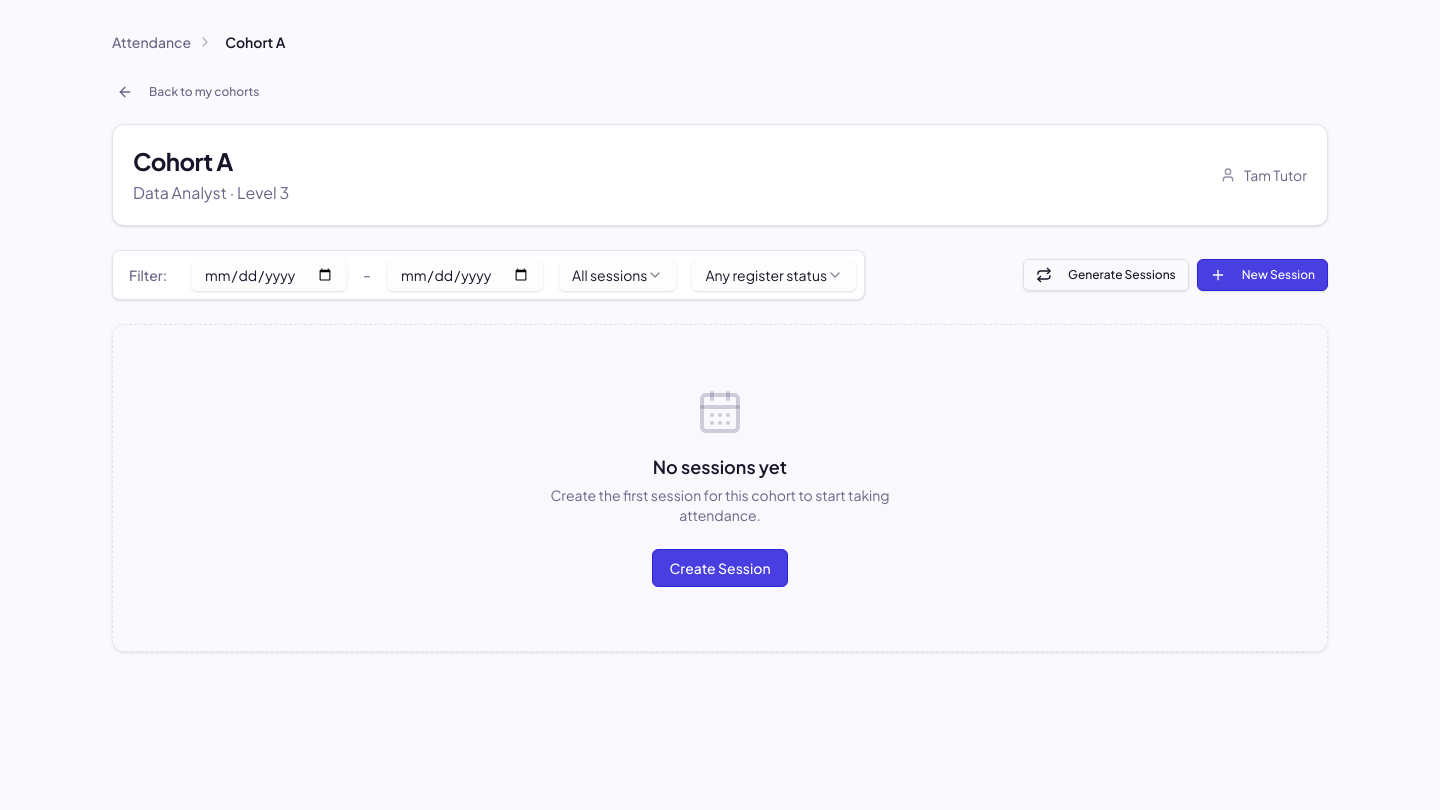
Test: CohortSessionsPage › does not let a tutor override a conflict -- no reason field or override button
The width and height of the screenshot is (1440, 810).
Step 1. Click the button "New Session" → (1262, 275), box x1=1197 y1=259 x2=1328 y2=291
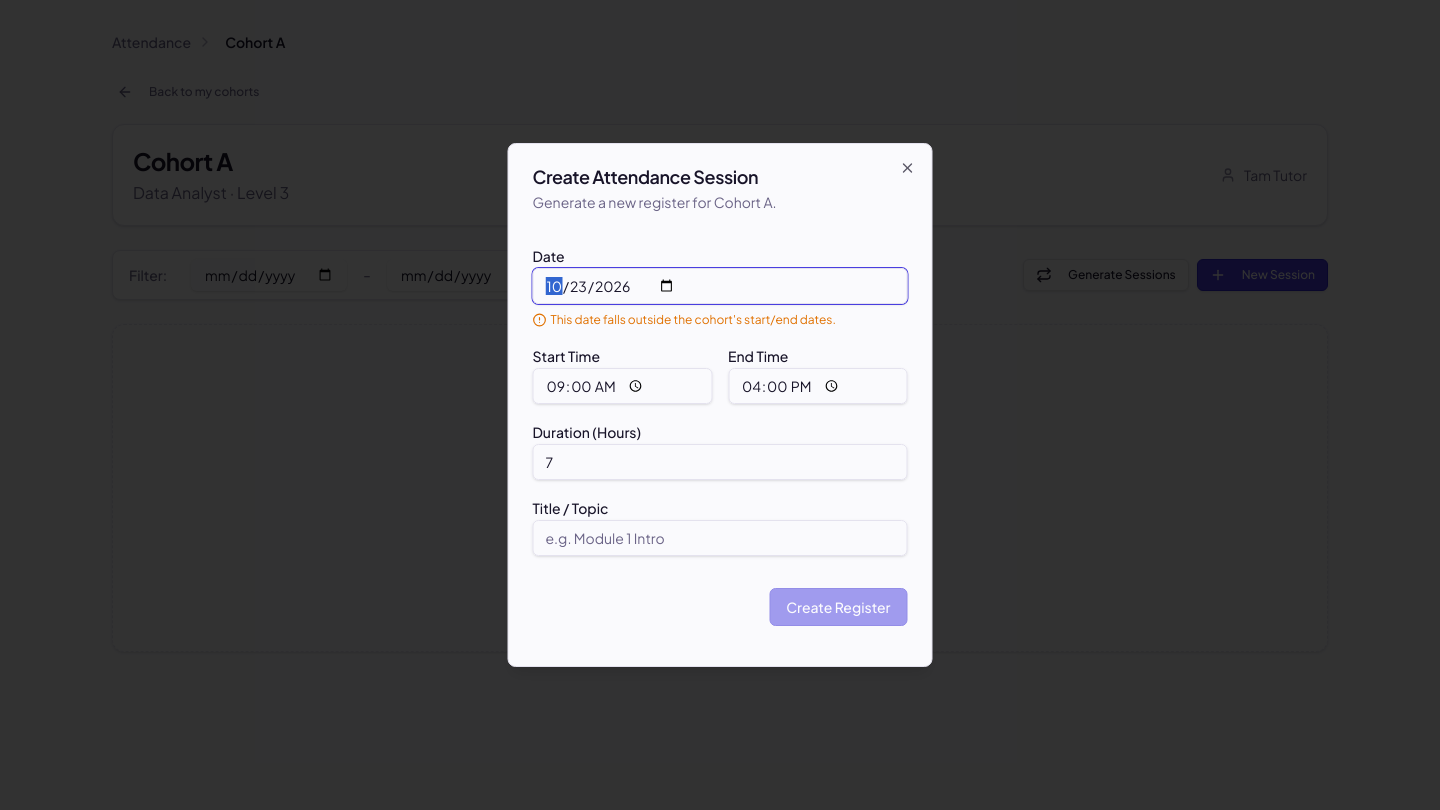
Step 2. Type "Module 1" into the field labelled "Title / Topic" → (720, 538), box x1=532 y1=520 x2=908 y2=556
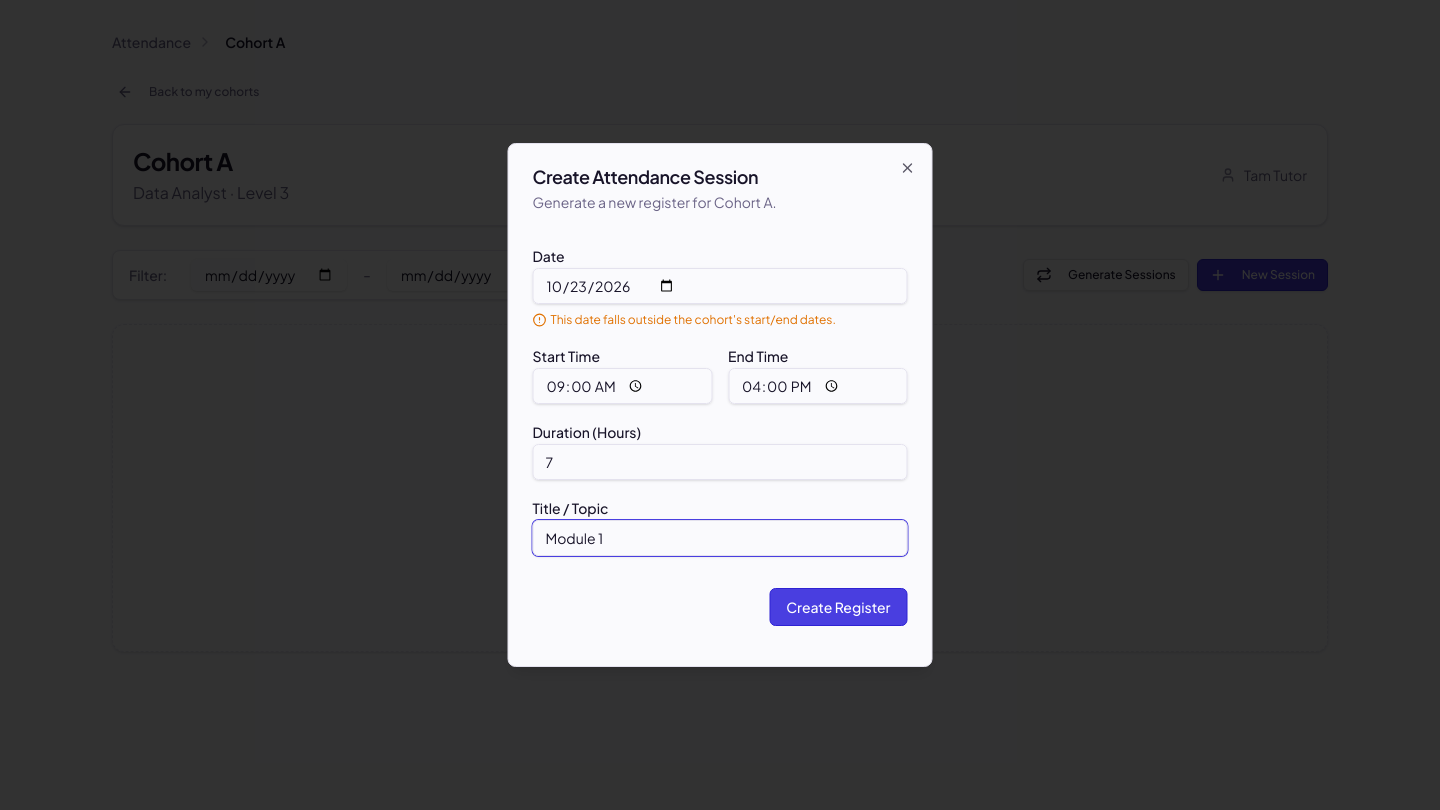
Step 3. Click the button "Create Register" → (838, 607), box x1=769 y1=588 x2=908 y2=626
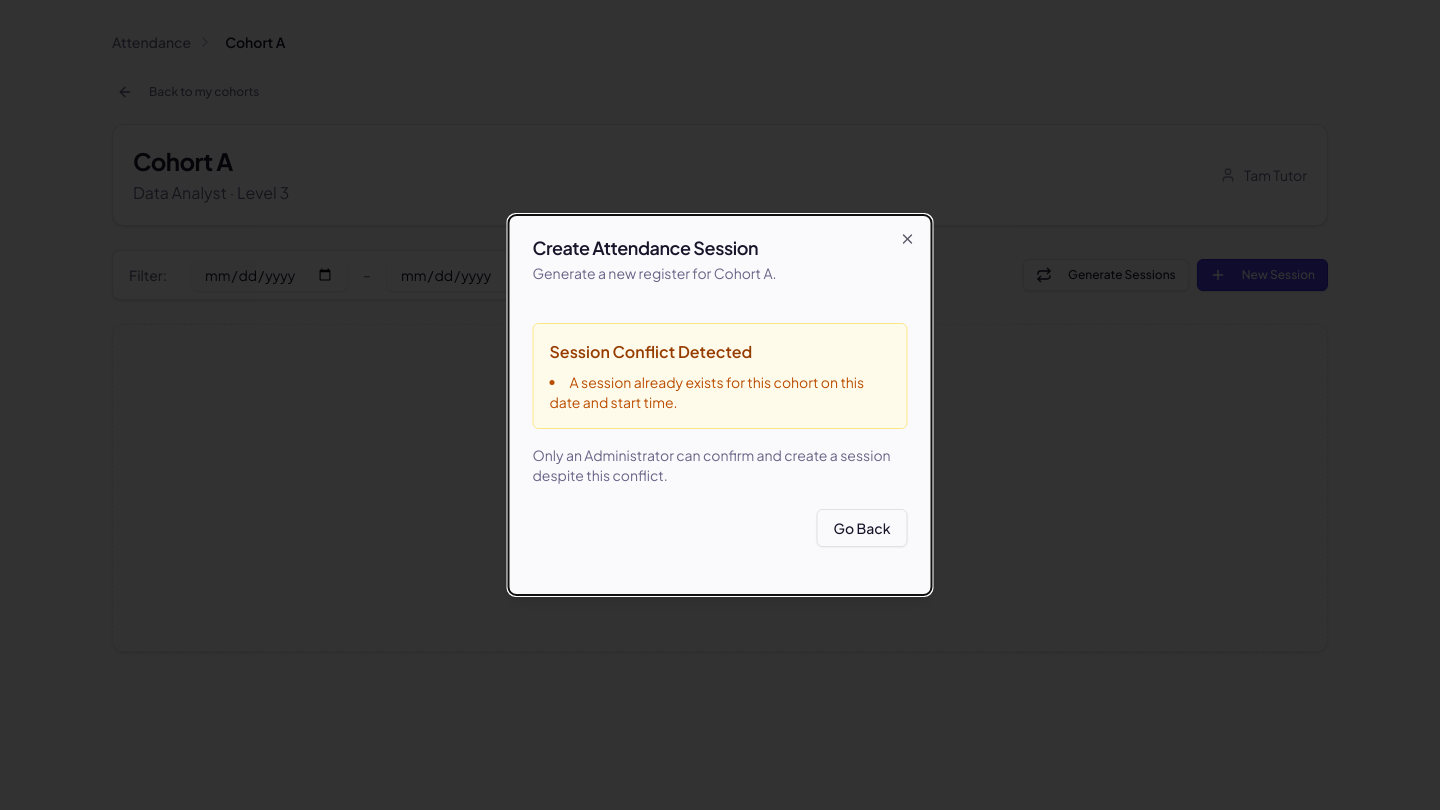
Expected: the heading "Session Conflict Detected" is shown, x1=550 y1=341 x2=752 y2=362
Expected: the text "Only an Administrator can confirm" is shown, x1=532 y1=446 x2=891 y2=484
